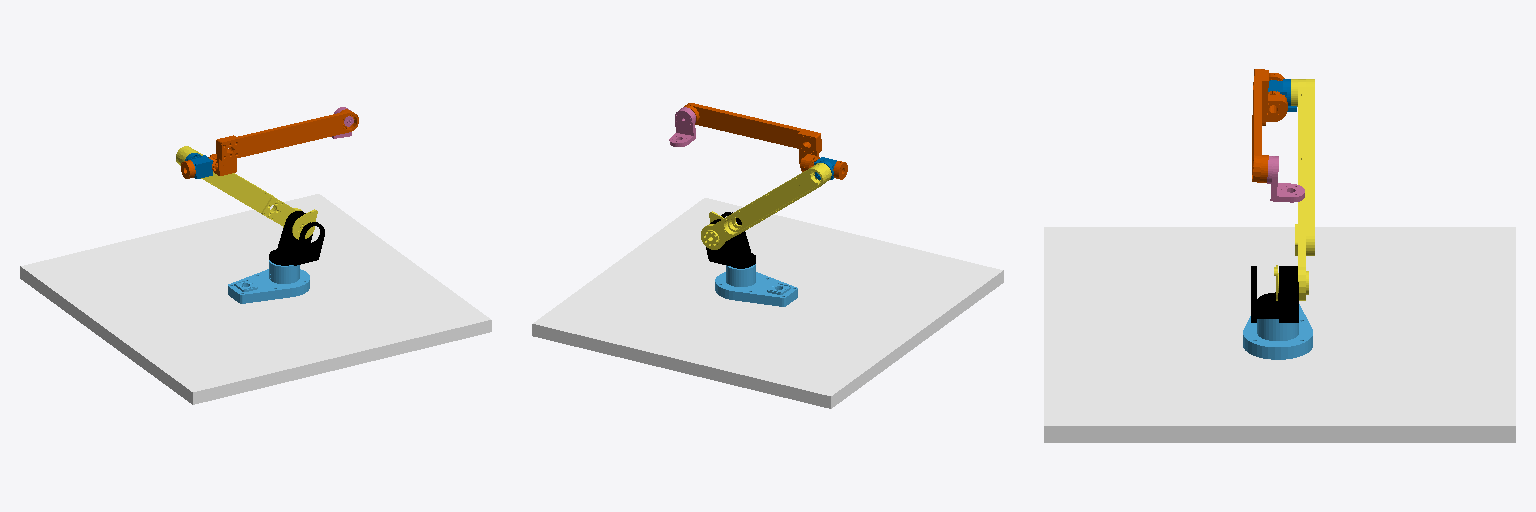
URDF robot description (thedush_arm_full_robot):
<?xml version="1.0"?>
<robot	name="thedush_arm_full_robot">

	<material name="theme">
		<texture filename="package://thedush_arm_full_robot/textures/texture1.png"/>
	</material>

	<material name="theme1">
		<texture filename="package://thedush_arm_full_robot/textures/texture2.png"/>
	</material>
	<material name="Black">
    	<color rgba="0.0 0.0 0.0 1.0"/>
  	</material>
  	<material name="White">
   		<color rgba="1.0 1.0 1.0 1.0"/>
 	</material>



	<joint name="bottom_joint" type="fixed">
		<origin rpy="0 0 0" xyz="0 0 0"/>
		<parent link="base_link"/>
		<child link="bottom_link"/>
	</joint>

	<link name="bottom_link">
		<visual>
			<origin rpy="0 0 0" xyz=" 0 0 -0.04"/>
			<geometry>
				<box size="1 1 0.04"/>
			</geometry>
			<material name="White"/>
		</visual>
		<collision>
			<origin rpy="0 0 0" xyz=" 0 0 -0.04"/>
			<geometry>
				<box size="1 1 0.04"/>
			</geometry>
		</collision>
		&gt;
	</link>
	<gazebo reference="bottom_link">
		<turnGravityOff>false</turnGravityOff>
    	<material>Gazebo/Orange</material>
  	</gazebo>

	<link name="base_link">
		<inertial>
      		<mass value="1"/>
      		<inertia ixx="1.0" ixy="0.0" ixz="0.0" iyy="0.5" iyz="0.0" izz="1.0"/>
    	</inertial>
		<visual>
			<origin xyz="-0.05 0.2 -0.08" rpy="0 0 0" />
			<geometry>
				<mesh filename="package://thedush_arm_full_robot/meshes/base_link.STL" />
			</geometry>
			 <material name="theme1"/>
		</visual>
		<collision>
			<origin xyz="-0.05 0.2 -0.08" rpy="0 0 0" />
			<geometry>
				<mesh filename="package://thedush_arm_full_robot/meshes/base_link.STL" />
			</geometry>
		</collision>
	</link>
	<gazebo reference="base_link">
    	<material>Gazebo/Orange</material>
    	<turnGravityOff>false</turnGravityOff>
  	</gazebo>

	<joint name="arm_joint" type="continuous">
		<origin xyz="0.0930626575947 -0.0050 -0.0090733811855"	rpy="1.5708 -5.9837E-20 -0.00097724" />
		<parent link="base_link" />
		<child link="arm_link" />
		<axis xyz="0 1 0" />
		<limit	effort="0"	velocity="1" />
		<dynamics damping="50" friction="1"/>
	</joint>



	<link name="arm_link">
		<inertial>
      		<mass value="1"/>
      		<inertia ixx="1.0" ixy="0.0" ixz="0.0" iyy="0.5" iyz="0.0" izz="1.0"/>
    	</inertial>

		<visual>
			<origin	xyz="0.0000 0.0 0.00"   rpy="0 0 0" />
			<geometry>
				<mesh	filename="package://thedush_arm_full_robot/meshes/arm_link.STL" />
			</geometry>
			 <material name="Black"/>
		</visual>
		<collision>
			<origin xyz="0 0 0" rpy="0 0 0" />
			<geometry>
				<mesh filename="package://thedush_arm_full_robot/meshes/arm_link.STL" />
			</geometry>
		</collision>
	</link>
	<gazebo reference="arm_link">
    	<material>Gazebo/Orange</material>
    	<turnGravityOff>false</turnGravityOff>
  	</gazebo>


	<joint	name="shoulder_joint"    type="continuous">
		<origin xyz="0.064038629103 0.164269309998 -0.0224439656734" rpy="0 0 0" />
		<parent link="arm_link" />
		<child  link="shoulder_link" />
		<axis   xyz="0 0 -1" />
		<limit  effort="0" velocity="1" />
		<dynamics damping="50" friction="1"/>
	</joint>




	<link	name="shoulder_link">
		<inertial>
      		<mass value="1"/>
      		<inertia ixx="1.0" ixy="0.0" ixz="0.0" iyy="0.5" iyz="0.0" izz="1.0"/>
    	</inertial>
		<visual>
			<origin	xyz="-0.073 -0.30 -0.18"	rpy="-1.57 0 0.5" />
			<geometry>
				<mesh filename="package://thedush_arm_full_robot/meshes/shoulder_link.STL" />
			</geometry>
			 <material name="theme1"/>
		</visual>
		<collision>
			<origin	xyz="-0.073 -0.30 -0.18"	rpy="-1.57 0 0.5" />
			<geometry>
				<mesh filename="package://thedush_arm_full_robot/meshes/shoulder_link.STL" />
			</geometry>
		</collision>
	</link>

	<gazebo reference="shoulder_link">
    	<material>Gazebo/Orange</material>
    	<turnGravityOff>false</turnGravityOff>
  	</gazebo>


	<joint name="wrist_joint" 	type="continuous">
		<origin	xyz="-0.3540057327127 0.280243031311 -0.020028915405" 	rpy="4.1874E-06 3.5863E-15 -0.00411" />
		<parent	link="shoulder_link" />
		<child 	link="wrist_link" />
		<axis	xyz="0 0 1" />
		<limit	effort="0"	velocity="1" />
		<dynamics damping="50" friction="1"/>
	</joint>



	<link name="wrist_link">
		<inertial>
      		<mass value="1"/>
      		<inertia ixx="1.0" ixy="0.0" ixz="0.0" iyy="0.5" iyz="0.0" izz="1.0"/>
    	</inertial>
		<visual>
			<origin	xyz="-0.0325 -0.6445 -0.158"	rpy="4.71 0 0" />
			<geometry>
				<mesh	filename="package://thedush_arm_full_robot/meshes/wrist_link.STL" />
			</geometry>
			 <material name="theme"/>
		</visual>
		<collision>
			<origin	xyz="-0.0325 -0.6445 -0.158"	rpy="4.71 0 0" />
			<geometry>
				<mesh	filename="package://thedush_arm_full_robot/meshes/wrist_link.STL" />
			</geometry>
		</collision>
	</link>

	<gazebo reference="wrist_link">
    	<material>Gazebo/Orange</material>
    	<turnGravityOff>false</turnGravityOff>
  	</gazebo>





	<joint name="wrotate_joint"	type="continuous">
		<origin	xyz="-0.001856706738 0.00107652950287 0.05206165123"	rpy="0 0.01 0" />
		<parent	link="wrist_link" />
		<child	link="wrotate_link" />
		<axis	xyz="1 0 0" />
		<limit	effort="0"	velocity="1" />
		<dynamics damping="50" friction="1"/>
	</joint>






    <link  name="wrotate_link">
		<inertial>
      		<mass value="1"/>
      		<inertia ixx="1.0" ixy="0.0" ixz="0.0" iyy="0.5" iyz="0.0" izz="1.0"/>
    	</inertial>

		<visual>
			<origin	xyz="0.255 -0.013 0.05501"	rpy="0 -0.180 0" />
			<geometry>
				<mesh  filename="package://thedush_arm_full_robot/meshes/wrotate_link.STL" />
			</geometry>
			 <material name="theme"/>
		</visual>


		<collision>
			<origin	xyz="0.255 -0.013 0.05501"	rpy="0 -0.180 0" />
			<geometry>
				<mesh	filename="package://thedush_arm_full_robot/meshes/wrotate_link.STL" />
			</geometry>
		</collision>
	</link>

	<gazebo reference="wrotate_link">
    	<material>Gazebo/Orange</material>
    	<turnGravityOff>false</turnGravityOff>
  	</gazebo>


	<joint	name="tool_joint" type="continuous">
		<origin	xyz="0.482182 0.0480664 0.05352198" rpy="-2.9271 -0.26532 1.4974" />
		<parent	link="wrotate_link" />
		<child	link="tool_link" />
		<axis	xyz="0.31691 -0.22746 -0.92078" />
		<limit	effort="0"	velocity="1" />
		<dynamics damping="50" friction="1"/>
	</joint>



	<link  name="tool_link">
		<inertial>
      		<mass value="1"/>
      		<inertia ixx="1.0" ixy="0.0" ixz="0.0" iyy="0.5" iyz="0.0" izz="1.0"/>
    	</inertial>
		<visual>
			<origin	xyz="0 0 0"	rpy="0 0 0" />
			<geometry>
				<mesh	filename="package://thedush_arm_full_robot/meshes/tool_link.STL" />
			</geometry>
			 <material name="theme"/>
		</visual>
		<collision>
			<origin	xyz="0 0 0"	rpy="0 0 0" />
			<geometry>
					<mesh	filename="package://thedush_arm_full_robot/meshes/tool_link.STL" />
			</geometry>
		</collision>
	</link>

	<gazebo reference="tool_link">
    	<material>Gazebo/Orange</material>
    	<turnGravityOff>false</turnGravityOff>
  	</gazebo>


<transmission name="tran2">
    <type>transmission_interface/SimpleTransmission</type>
    <joint name="arm_joint">
      <hardwareInterface>PositionJointInterface</hardwareInterface>
    </joint>
    <actuator name="motor2">
      <hardwareInterface>PositionJointInterface</hardwareInterface>
      <mechanicalReduction>1</mechanicalReduction>
    </actuator>
  </transmission>
  <transmission name="tran2">
    <type>transmission_interface/SimpleTransmission</type>
    <joint name="shoulder_joint">
      <hardwareInterface>PositionJointInterface</hardwareInterface>
    </joint>
    <actuator name="motor2">
      <hardwareInterface>PositionJointInterface</hardwareInterface>
      <mechanicalReduction>1</mechanicalReduction>
    </actuator>
  </transmission>
  <transmission name="tran2">
    <type>transmission_interface/SimpleTransmission</type>
    <joint name="wrist_joint">
      <hardwareInterface>PositionJointInterface</hardwareInterface>
    </joint>
    <actuator name="motor2">
      <hardwareInterface>PositionJointInterface</hardwareInterface>
      <mechanicalReduction>1</mechanicalReduction>
    </actuator>
  </transmission>
  <transmission name="tran2">
    <type>transmission_interface/SimpleTransmission</type>
    <joint name="wrotate_joint">
      <hardwareInterface>PositionJointInterface</hardwareInterface>
    </joint>
    <actuator name="motor2">
      <hardwareInterface>PositionJointInterface</hardwareInterface>
      <mechanicalReduction>1</mechanicalReduction>
    </actuator>
  </transmission>
  <transmission name="tran2">
    <type>transmission_interface/SimpleTransmission</type>
    <joint name="tool_joint">
      <hardwareInterface>PositionJointInterface</hardwareInterface>
    </joint>
    <actuator name="motor2">
      <hardwareInterface>PositionJointInterface</hardwareInterface>
      <mechanicalReduction>1</mechanicalReduction>
    </actuator>
  </transmission>
    <gazebo>
    <plugin filename="libgazebo_ros_control.so" name="gazebo_ros_control">
      <robotNamespace>/thedush_arm_full_robot</robotNamespace>
    </plugin>
  </gazebo>
</robot>

--- What the picture shows (computed from the rendered views, not written in the file) ---
The picture shows the robot from 3 angles, left to right: view 1: azimuth 30°, elevation 25°; view 2: azimuth 150°, elevation 25°; view 3: azimuth 270°, elevation 25°; orthographic projection.
Robot: thedush_arm_full_robot — 7 links, 6 joints (5 continuous, 1 fixed); root link base_link; default pose: every joint at zero.
Visible links, largest first — view 1: bottom_link, wrotate_link, shoulder_link, base_link, arm_link; view 2: bottom_link, wrotate_link, shoulder_link, base_link, arm_link, tool_link; view 3: bottom_link, shoulder_link, base_link, wrotate_link, arm_link, tool_link.
Boxes of the visible links, x1,y1,x2,y2 form: bottom_link: (20,194,491,404); wrotate_link: (181,109,358,178); shoulder_link: (176,146,317,239); base_link: (228,260,309,303); arm_link: (269,211,324,265); bottom_link: (532,198,1003,408); wrotate_link: (684,103,847,179); shoulder_link: (701,163,831,249); base_link: (715,264,797,306); arm_link: (706,212,755,268); tool_link: (669,107,695,146); bottom_link: (1044,227,1515,442); shoulder_link: (1274,79,1314,300); base_link: (1243,304,1312,359); wrotate_link: (1252,69,1287,182); arm_link: (1251,266,1298,322); tool_link: (1267,156,1304,202).
Bounding box of the posed robot: 1 × 1 × 0.5769 m (x, y, z).
6 mesh visuals loaded from 6 distinct referenced files (6 binary STL).
